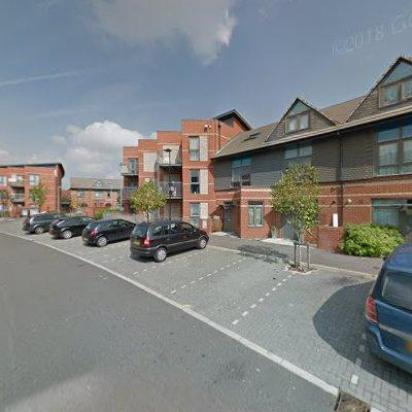stationary-car-onstreet: (362, 240, 412, 376), (130, 219, 208, 262), (82, 219, 136, 248), (49, 216, 95, 240), (23, 213, 66, 234)
